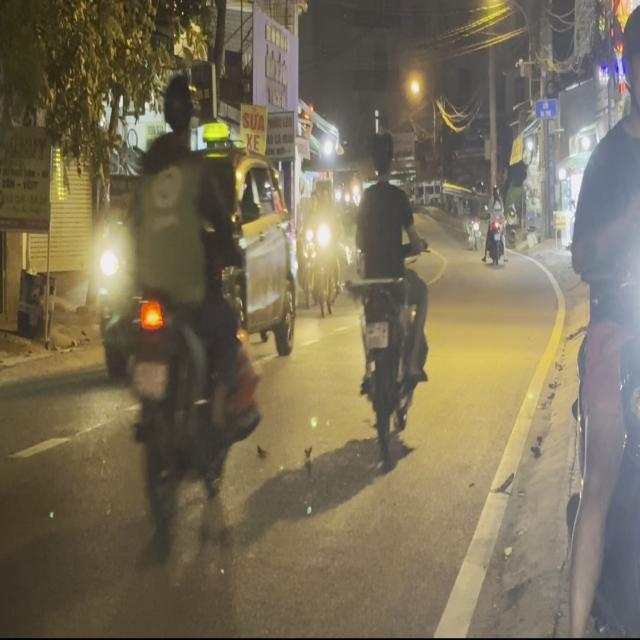helmet: (160, 72, 197, 151)
licenseplate: (124, 73, 268, 523), (349, 124, 431, 472)
motorcyclist: (369, 129, 394, 180)
nohelmet: (133, 360, 167, 397), (366, 321, 388, 350)
